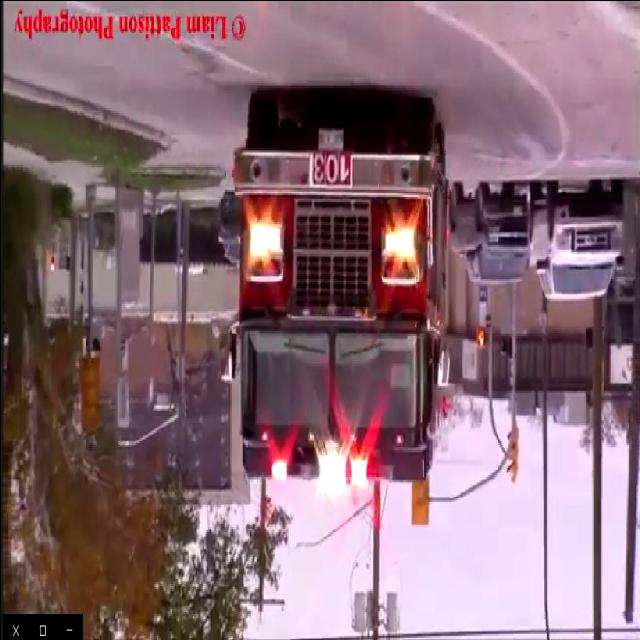emergency: (228, 106, 451, 506)
